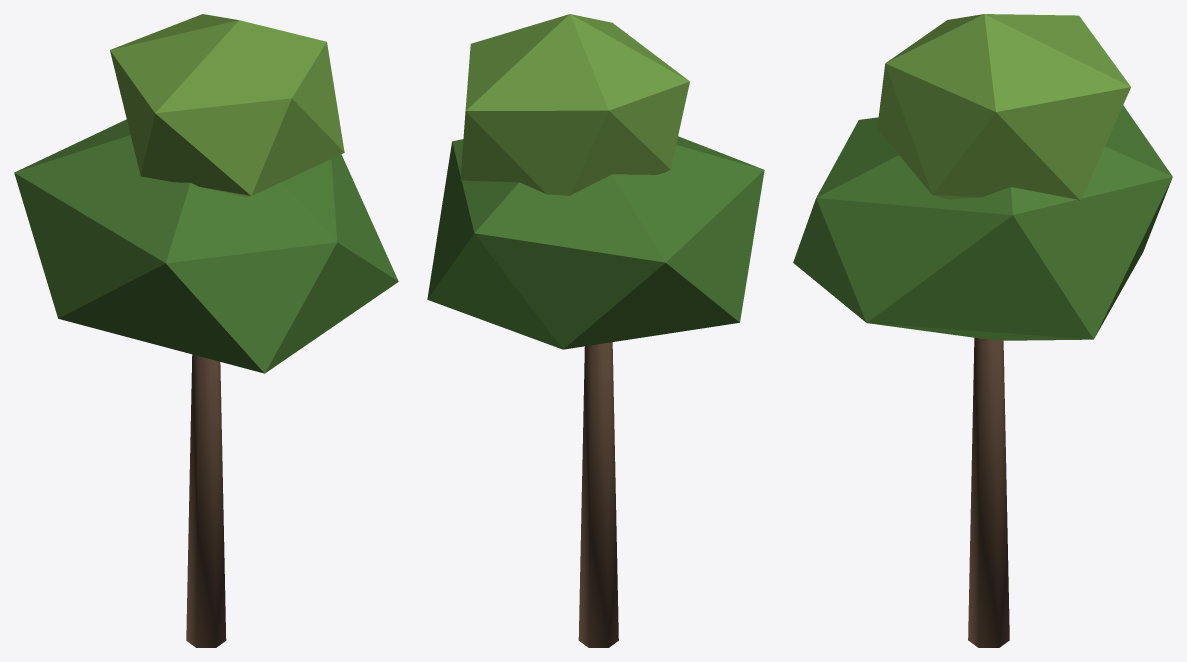
File: tree-slender.glb
3 renders of one model, left to right at view 1: azimuth 30°, elevation 25°; view 2: azimuth 150°, elevation 25°; view 3: azimuth 270°, elevation 25°, orthographic. The views are drawn at different scales.
Parts seen in each view (by area): view 1: CrownLow, CrownHigh, Trunk; view 2: CrownLow, CrownHigh, Trunk; view 3: CrownLow, CrownHigh, Trunk.
Part boxes in pixels (box(x1,y1,x2,y2)): CrownLow: box(14, 119, 398, 373); CrownHigh: box(110, 14, 344, 197); Trunk: box(186, 354, 226, 647); CrownLow: box(427, 136, 764, 349); CrownHigh: box(460, 14, 689, 195); Trunk: box(578, 342, 618, 647); CrownLow: box(793, 105, 1172, 340); CrownHigh: box(877, 14, 1130, 200); Trunk: box(968, 337, 1009, 647).
Size of the model in its own units: 2.58 by 5.43 by 2.91.
